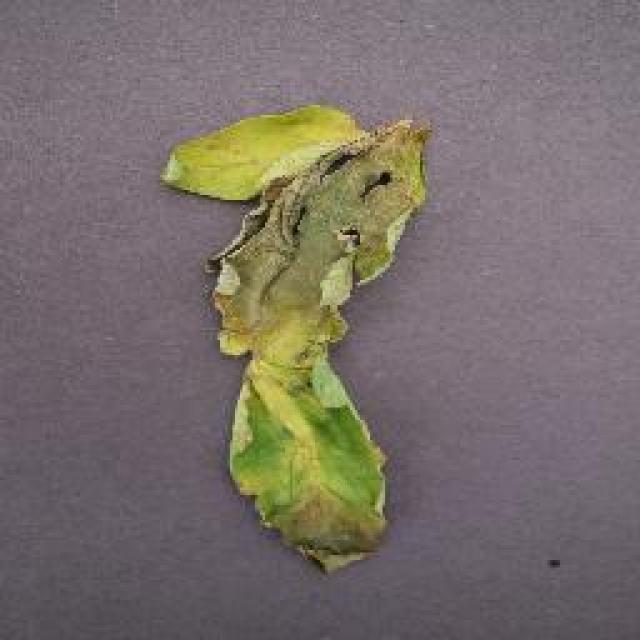Tomato late blight leaf: (161, 104, 424, 581)
